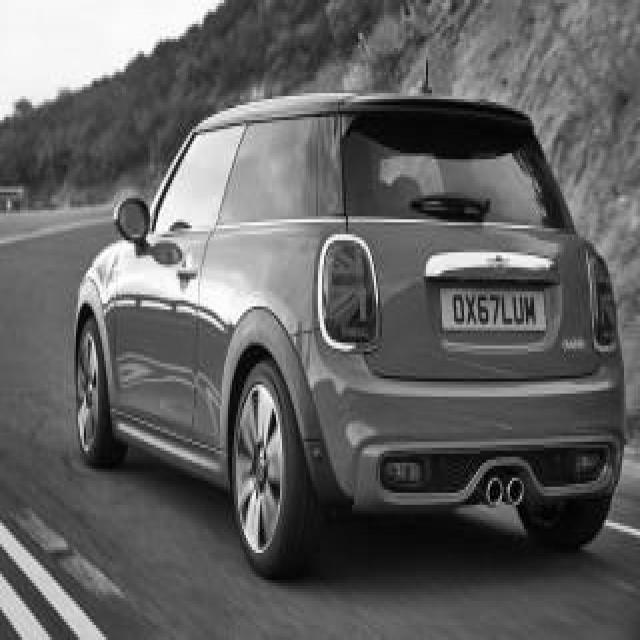Car: (75, 94, 624, 577)
